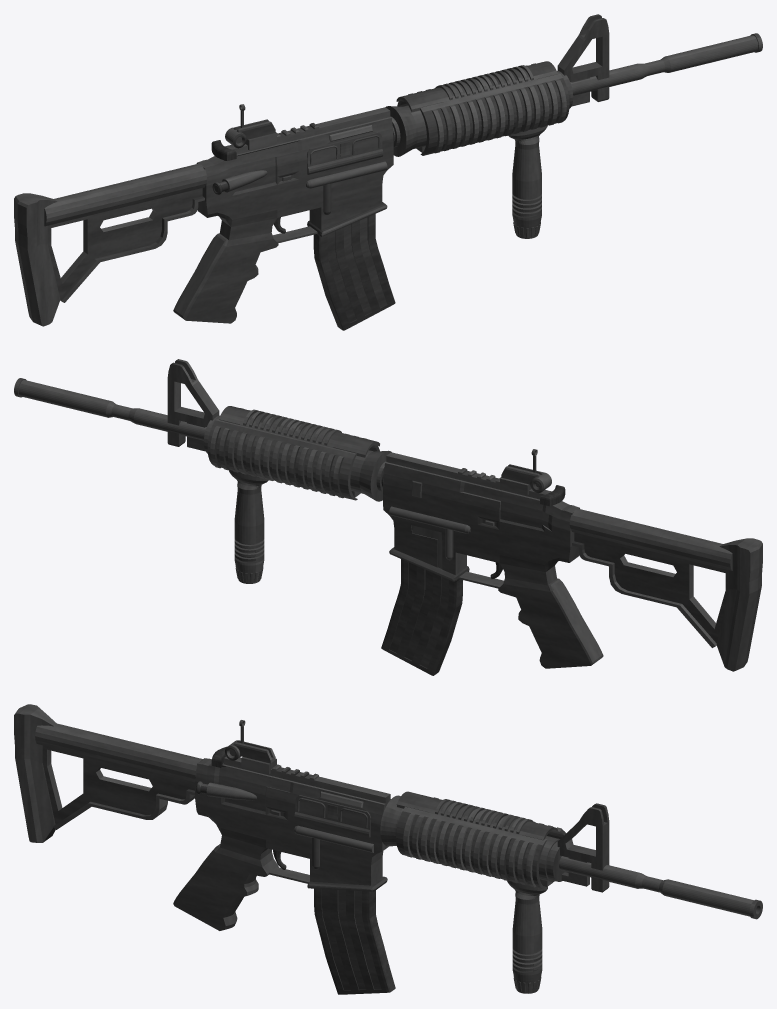
3 renders of one model, top to bottom at view 1: azimuth 30°, elevation 25°; view 2: azimuth 150°, elevation 25°; view 3: azimuth 330°, elevation 25°, orthographic.
Parts seen in each view (by area): view 1: Gun, Mag; view 2: Gun, Mag; view 3: Gun, Mag.
Boxes of the visible parts, x1,y1,x2,y2 form: Gun: [14, 14, 762, 326]; Mag: [313, 214, 395, 330]; Gun: [14, 359, 762, 671]; Mag: [381, 559, 462, 675]; Gun: [14, 704, 762, 993]; Mag: [314, 888, 395, 994].
Bounding box in the file's own units: 432 × 139 × 36.55.
